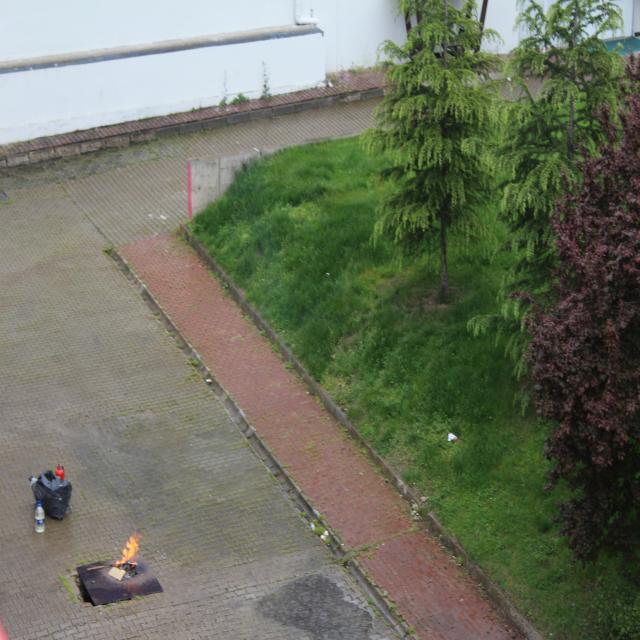fire: (113, 528, 147, 576)
